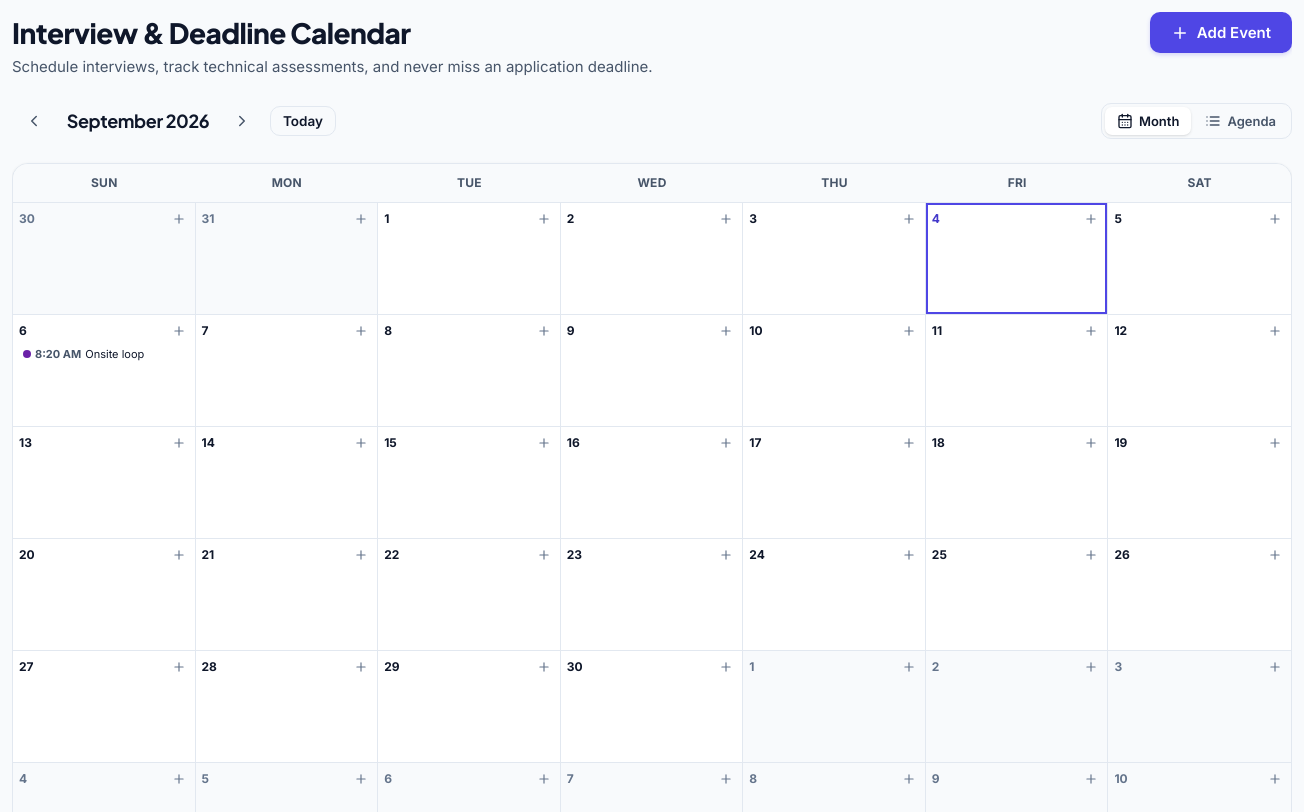
Test: the agenda view › names the type and links to the application an event belongs to
This screenshot has width=1304, height=812.
Click the radio button labelled "Agenda" at (1241, 120), box 1193,106 -> 1288,134
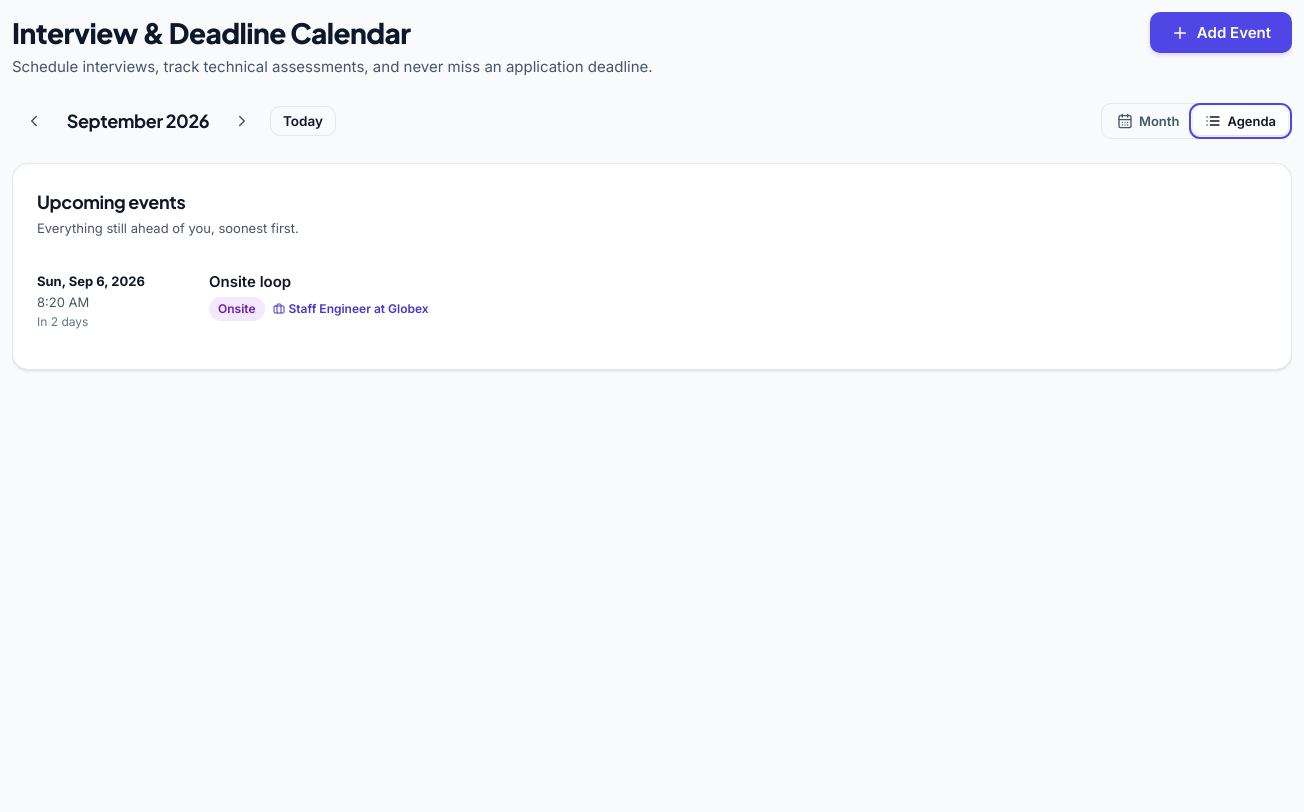
Result: the text "Onsite" is shown at 218,300 -> 256,318
